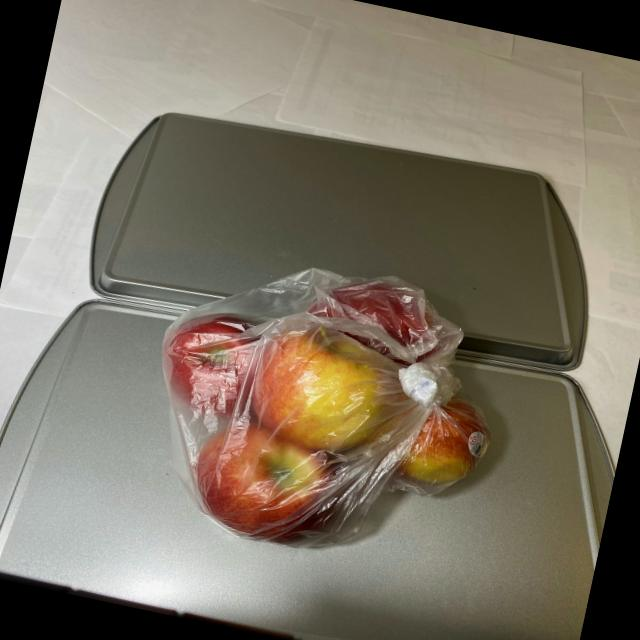apple: (122, 230, 522, 586)
